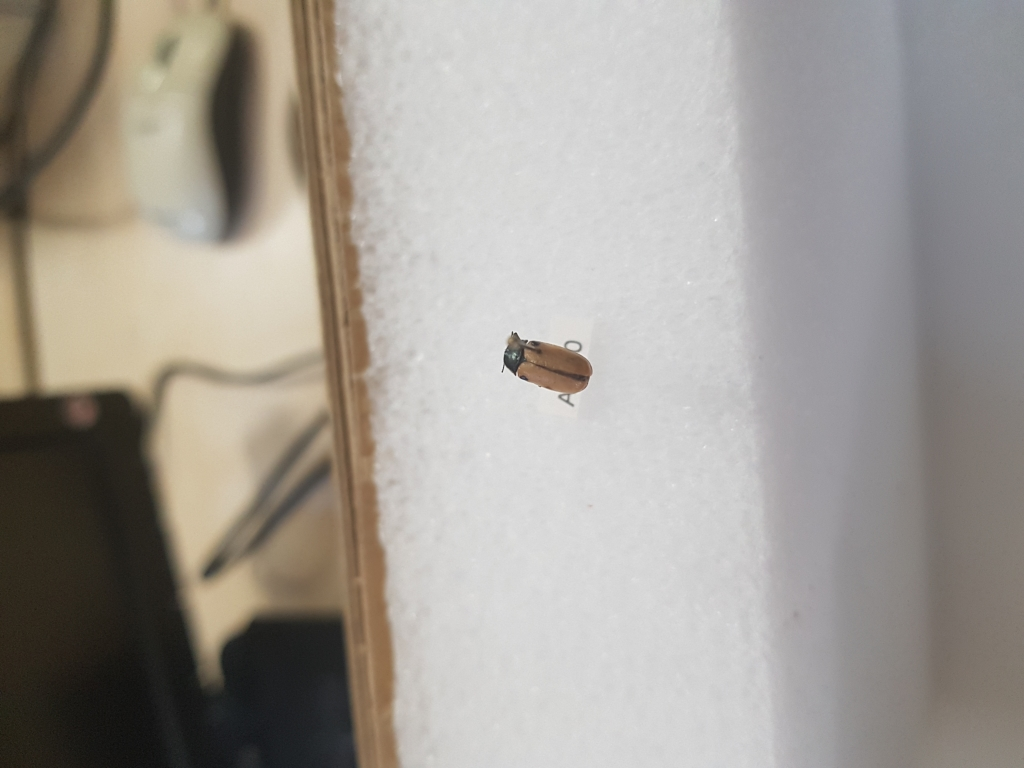Labidostomis_propinqua: (497, 306, 599, 412)
